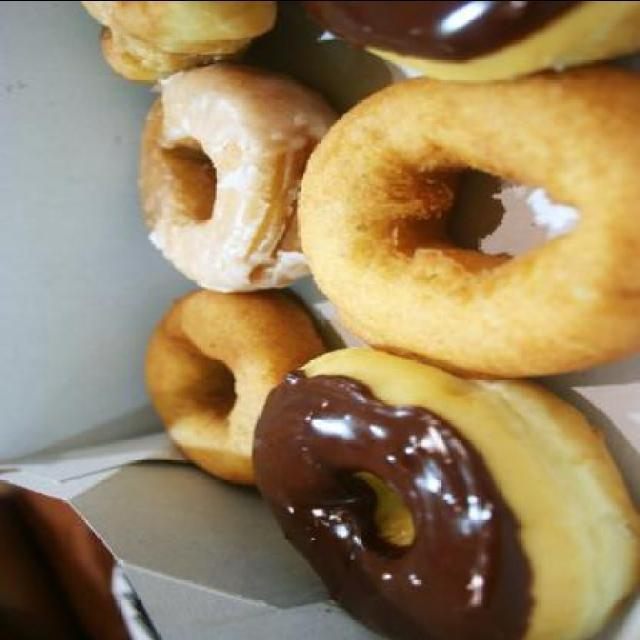Donuts: (76, 1, 638, 632)
